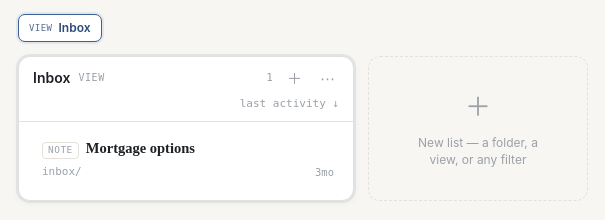
it: a column header's context menu › offers the same three acts the ⋯ button does
Right-click the header with class "col-head": {"x": 186, "y": 90} x1=19 y1=57 x2=353 y2=122
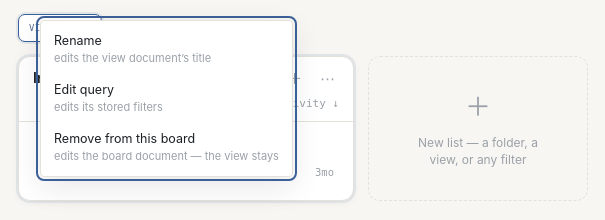
Now the menu named "List options for Inbox" is shown, box x1=40 y1=20 x2=293 y2=177
